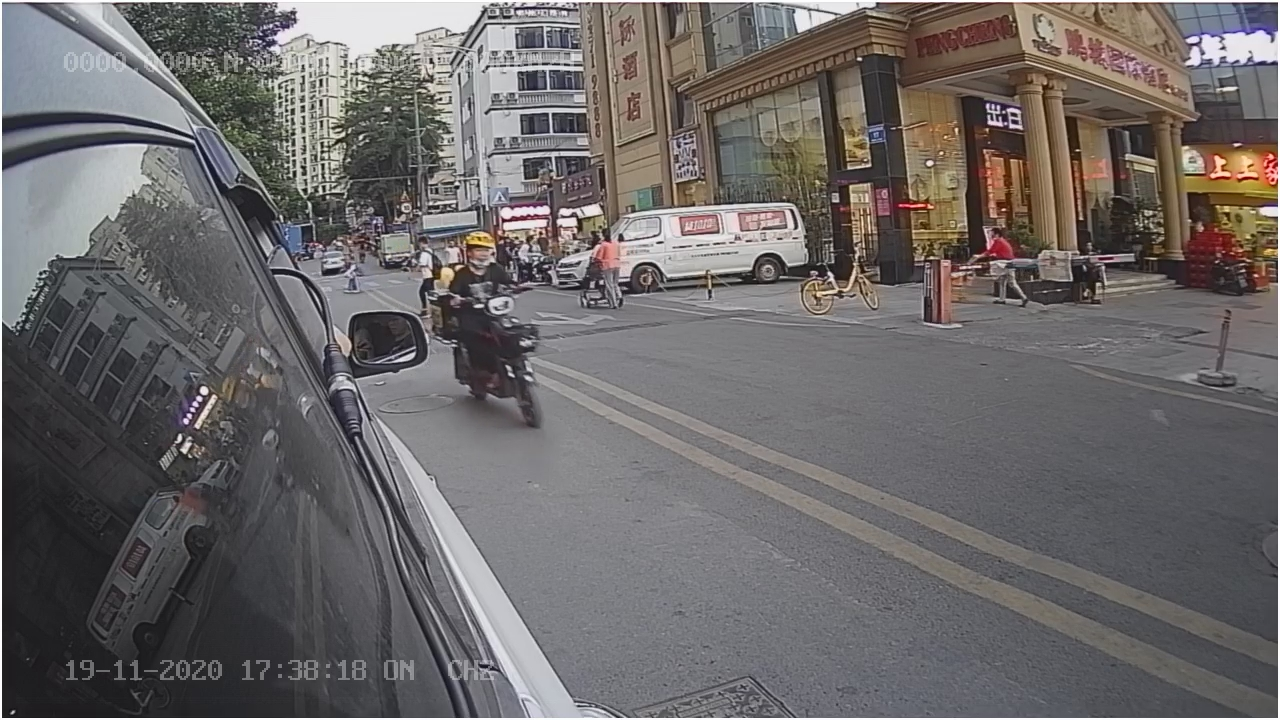person: (445, 232, 513, 295)
